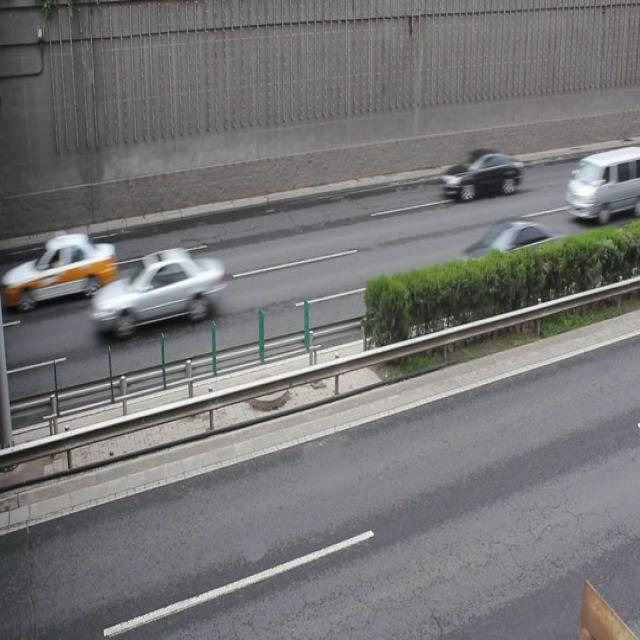car: (89, 246, 225, 336), (19, 231, 118, 304), (459, 218, 560, 282), (438, 146, 523, 200)
truck: (565, 145, 640, 221)
